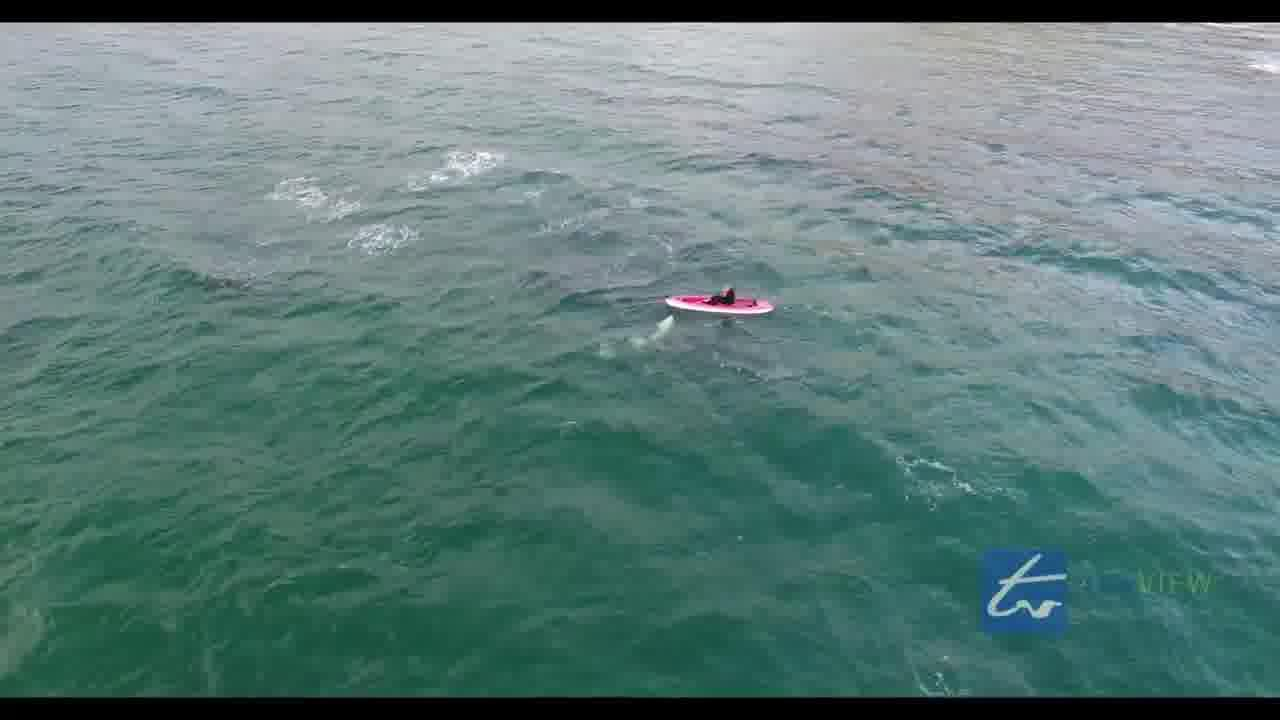human: (707, 277, 740, 321)
